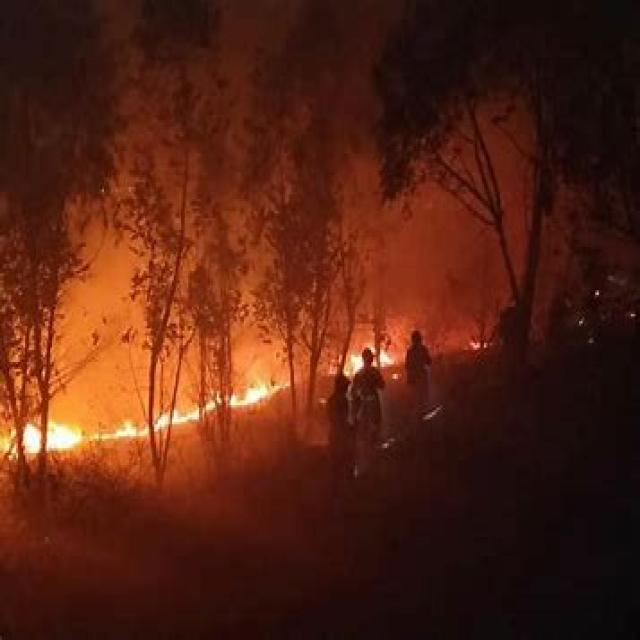fire: (142, 367, 297, 429), (2, 410, 183, 458), (327, 341, 405, 378)
